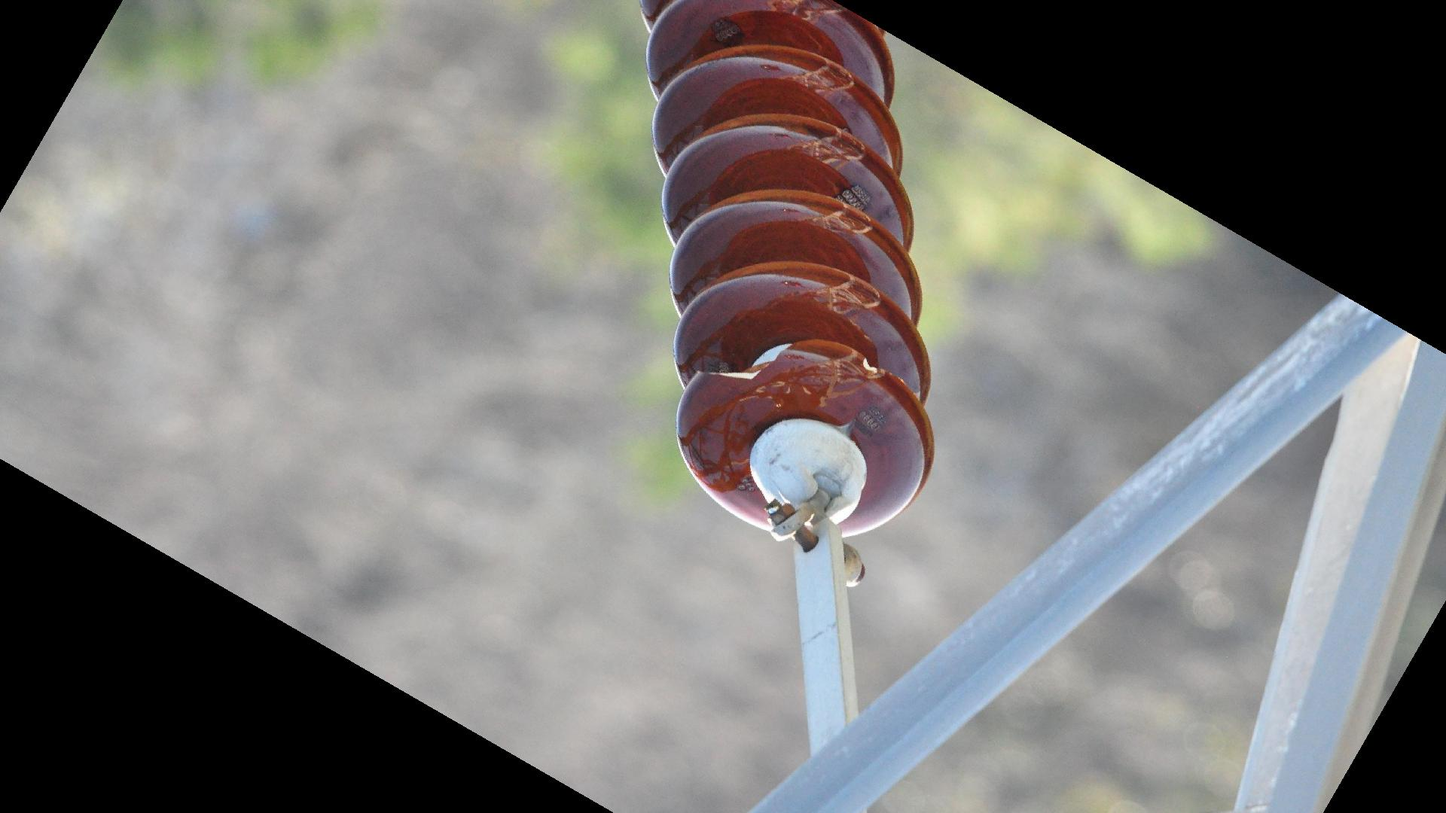insulator: (630, 1, 941, 544)
insulator_breakage: (681, 325, 903, 405)
